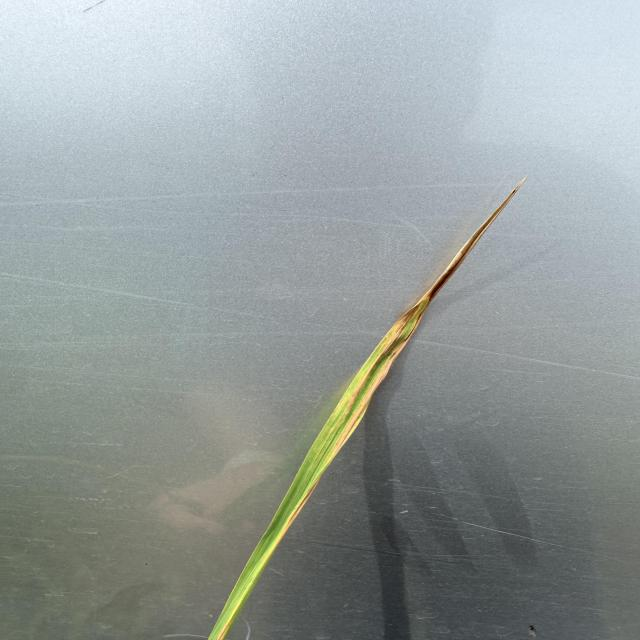Chay bia la: (280, 178, 531, 543)
